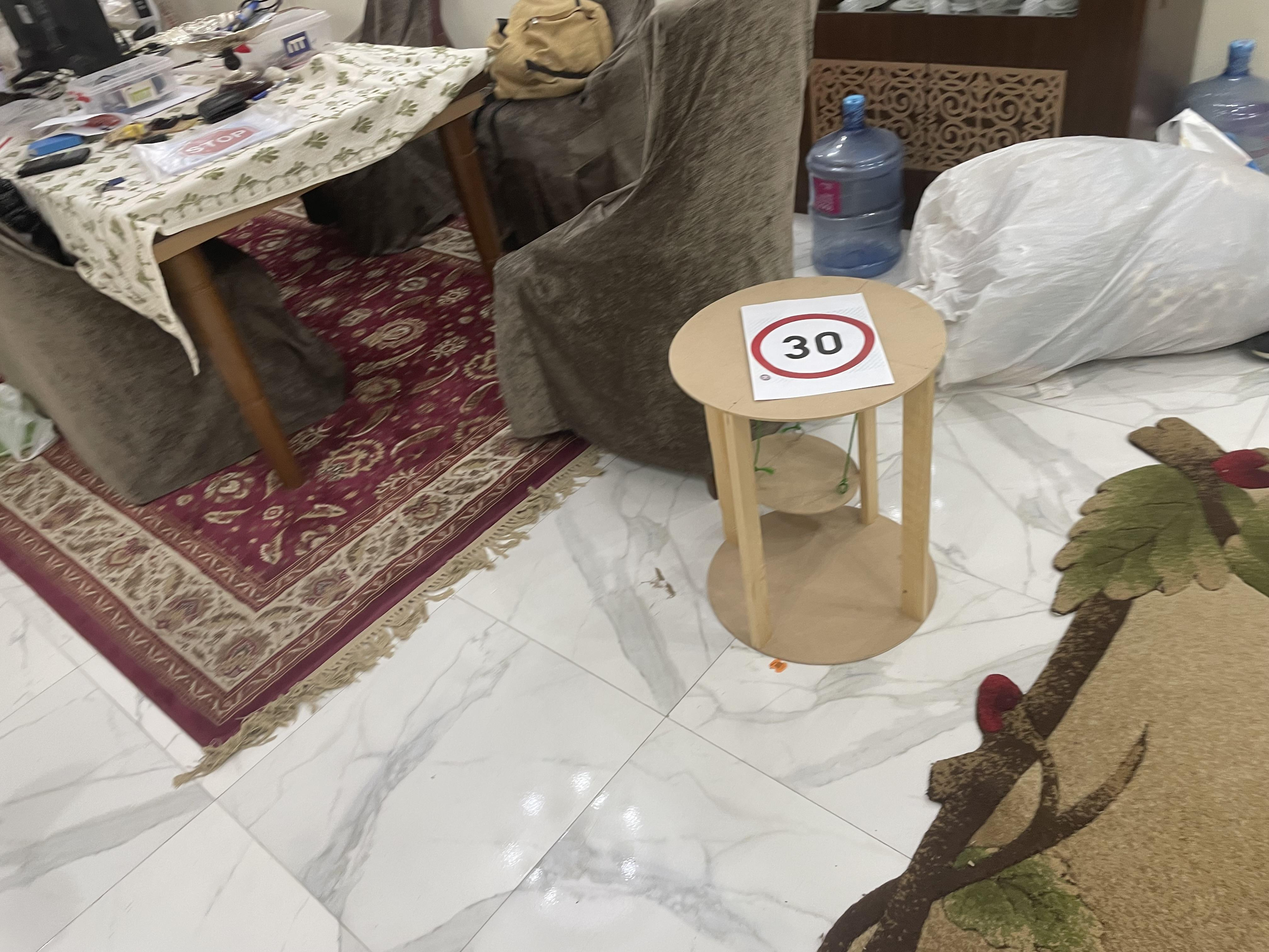30-speed: (745, 299, 878, 380)
